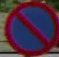No waiting: (4, 1, 54, 52)
